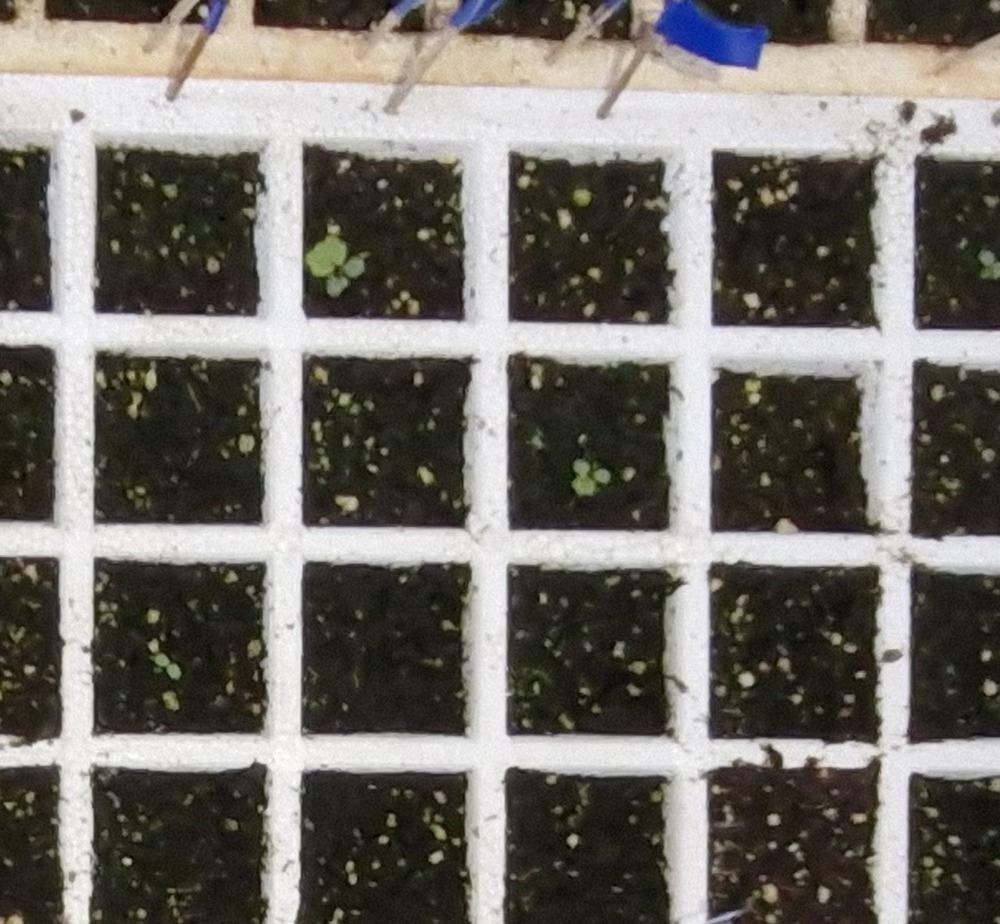Folha: (306, 235, 346, 276), (573, 476, 597, 496), (343, 257, 364, 279), (327, 275, 347, 296), (573, 459, 591, 476), (979, 250, 995, 266), (593, 470, 610, 484), (167, 665, 183, 678), (981, 267, 993, 280), (157, 654, 170, 666), (991, 262, 1000, 278)
Germinacao: (306, 233, 366, 298), (572, 460, 611, 496), (154, 653, 182, 679), (978, 250, 1000, 279)
